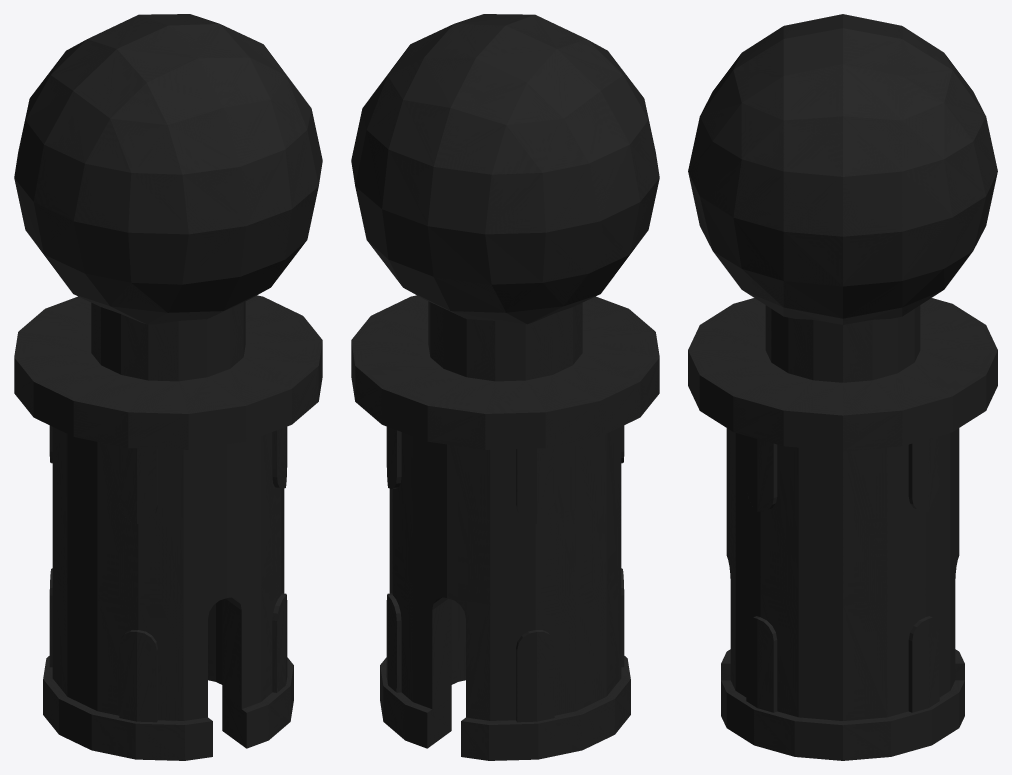
Rendered from ball_with_friction_snap.dae.
The picture shows the model from 3 angles, left to right: view 1: azimuth 30°, elevation 25°; view 2: azimuth 150°, elevation 25°; view 3: azimuth 270°, elevation 25°; orthographic projection.
Parts seen in each view (by area): view 1: node; view 2: node; view 3: node.
Boxes of the visible parts, x1,y1,x2,y2 form: node: (14, 14, 322, 760); node: (351, 14, 659, 760); node: (688, 14, 997, 760).
Bounding box in the file's own units: 15.5 × 37.5 × 15.5.
Materials: 1 (1 with a texture image).
